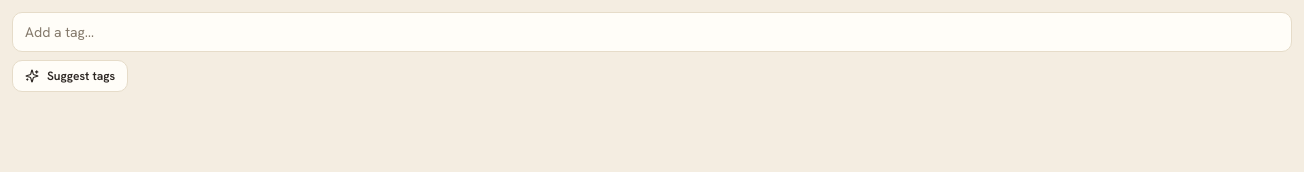
Scenario: ItemTagsEditor › sends someone to settings when no model is configured
The image size is (1304, 172).
Click the button "Suggest tags".
click(70, 76)  # box [12, 60, 128, 92]
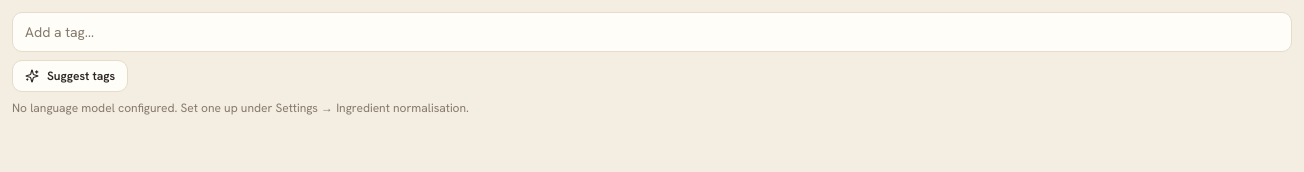
Expected: the text "No language model configured" is shown, [12, 100, 469, 116]
